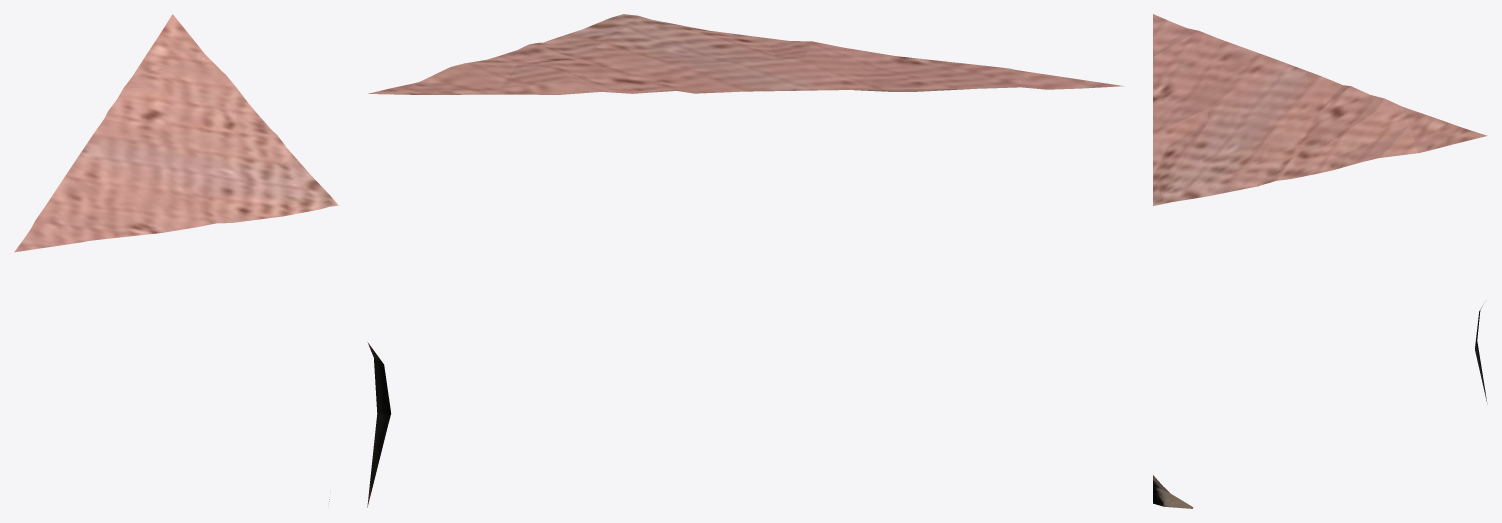
3 views of the same model, side by side, from view 1: azimuth 30°, elevation 25°; view 2: azimuth 150°, elevation 25°; view 3: azimuth 270°, elevation 25° (orthographic). The views are drawn at different scales.
Bounding box in the file's own units: 3.76 × 4.1 × 3.34.
Materials: 1 (1 with a texture image).
